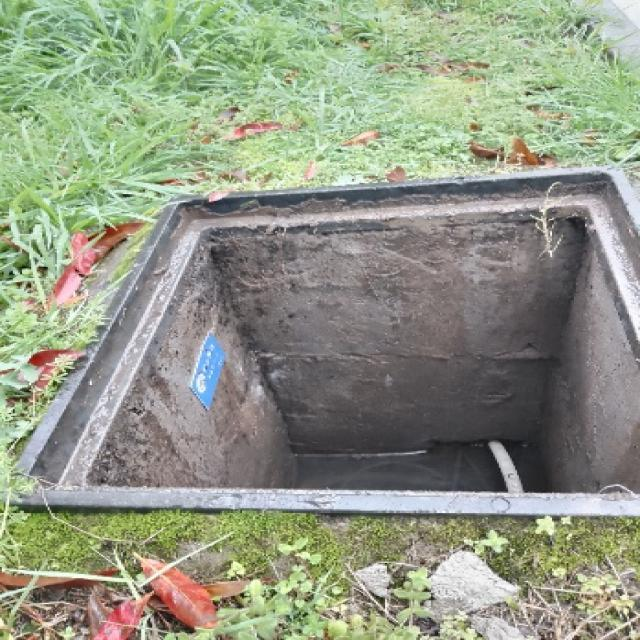Faulty: (17, 183, 640, 531)
